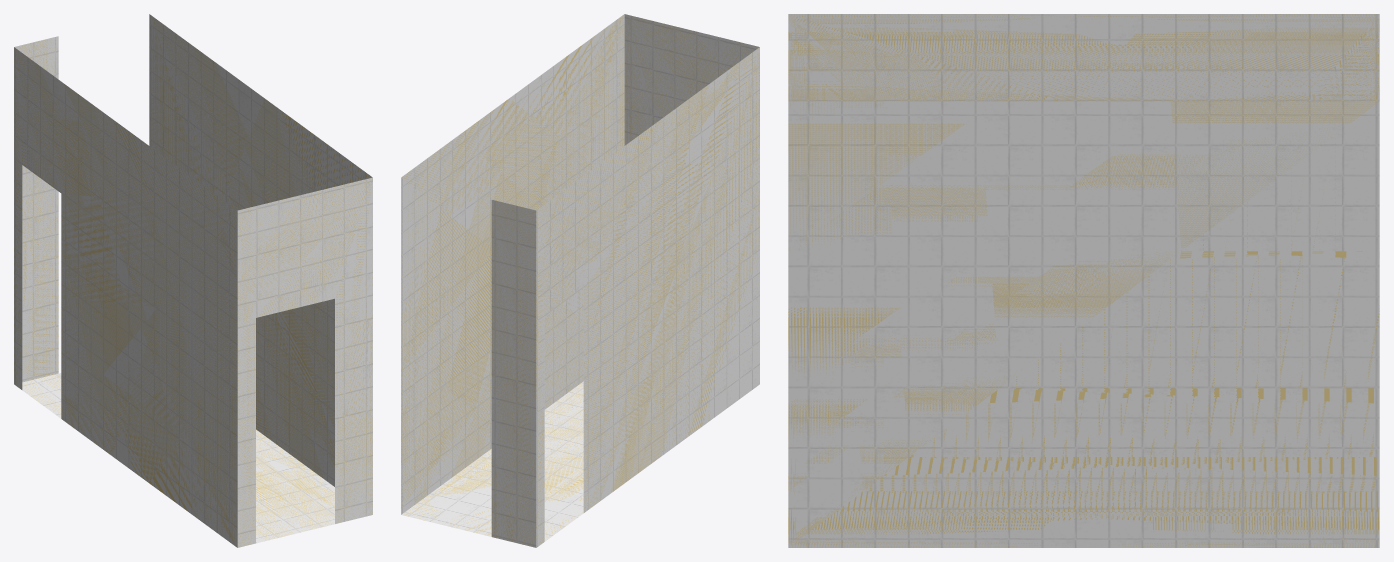
File: CUA016.obj
The picture shows the model from 3 angles, left to right: view 1: azimuth 30°, elevation 25°; view 2: azimuth 150°, elevation 25°; view 3: azimuth 270°, elevation 25°; orthographic projection. The views are drawn at different scales.
Visible parts, largest first — view 1: Mesh1 CUA016 Model; view 2: Mesh1 CUA016 Model; view 3: Mesh1 CUA016 Model.
Boxes of the visible parts, bbox=[...] form: Mesh1 CUA016 Model: bbox=[14, 14, 372, 547]; Mesh1 CUA016 Model: bbox=[401, 14, 759, 547]; Mesh1 CUA016 Model: bbox=[788, 14, 1379, 547].
Size of the model in its own units: 1.26 by 3 by 3.6.
Materials: 2 (1 with a texture image).
